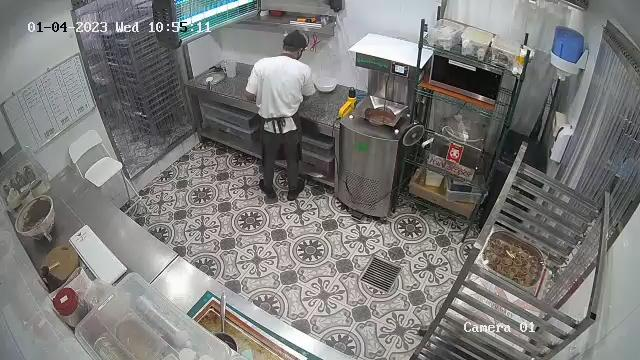apron: (258, 94, 300, 137)
